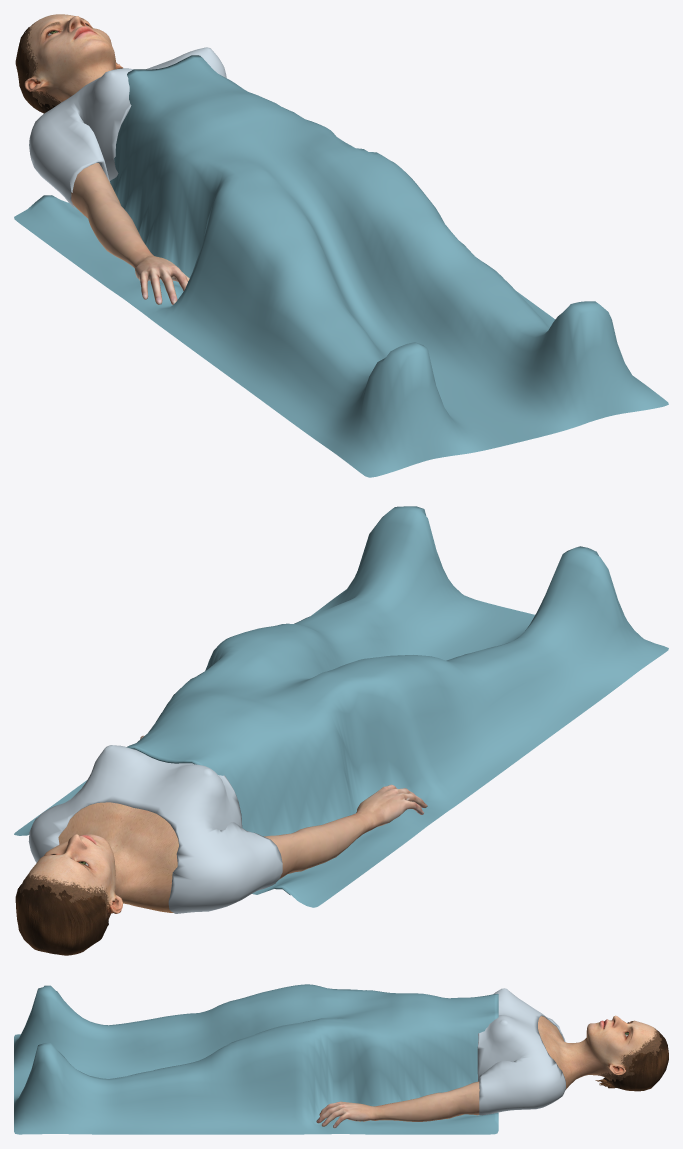
The picture shows the model from 3 angles, top to bottom: view 1: azimuth 30°, elevation 25°; view 2: azimuth 150°, elevation 25°; view 3: azimuth 270°, elevation 25°; orthographic projection. The views are drawn at different scales.
Visible parts, largest first — view 1: sheet, gown, body, arms, hair; view 2: sheet, gown, body, arms, hair; view 3: sheet, gown, body, arms, hair.
Boxes of the visible parts, bbox=[...] form: sheet: bbox=[14, 55, 668, 477]; gown: bbox=[29, 47, 226, 209]; body: bbox=[21, 14, 122, 108]; arms: bbox=[71, 163, 189, 304]; hair: bbox=[15, 27, 55, 113]; sheet: bbox=[14, 506, 668, 907]; gown: bbox=[28, 745, 282, 913]; body: bbox=[20, 802, 178, 921]; arms: bbox=[140, 735, 427, 879]; hair: bbox=[15, 879, 108, 955]; sheet: bbox=[14, 984, 498, 1134]; gown: bbox=[477, 988, 565, 1115]; body: bbox=[538, 1015, 662, 1090]; arms: bbox=[316, 1081, 479, 1128]; hair: bbox=[595, 1030, 668, 1091].
Bounding box in the file's own units: 0.6371 × 0.2442 × 1.76.
Materials: 8 (6 with a texture image).
